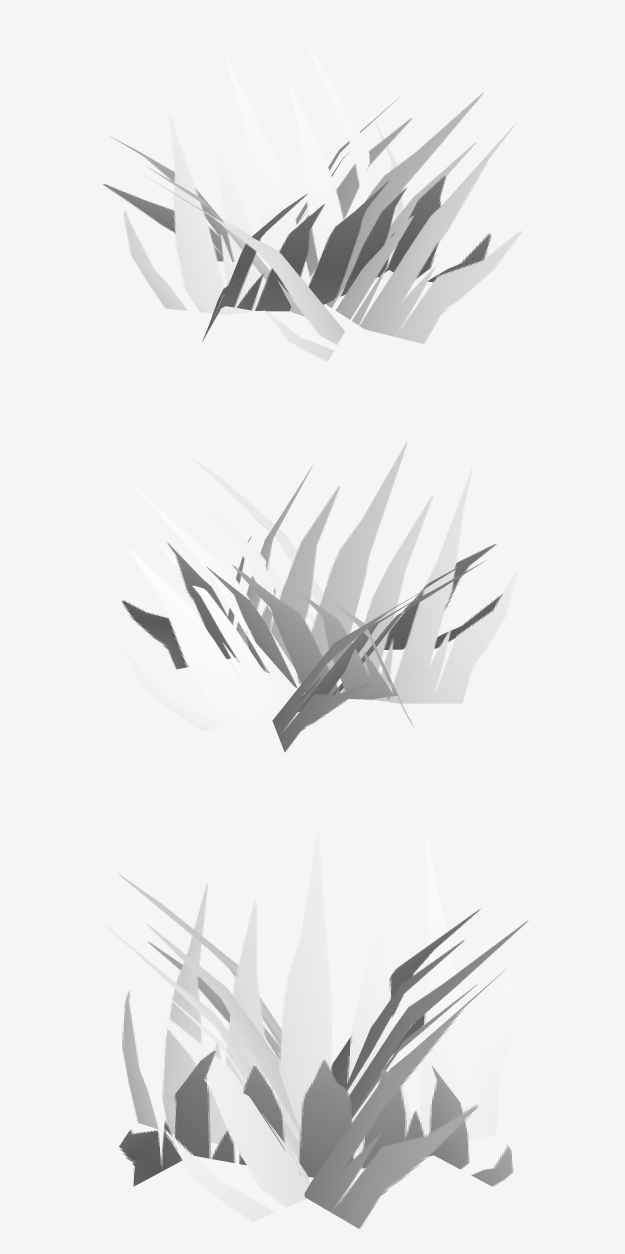
File: grass_model.glb
The picture shows the model from 3 angles, top to bottom: view 1: azimuth 30°, elevation 25°; view 2: azimuth 150°, elevation 25°; view 3: azimuth 270°, elevation 25°; orthographic projection. The views are drawn at different scales.
Parts seen in each view (by area): view 1: grass_pixelated.008; view 2: grass_pixelated.008; view 3: grass_pixelated.008.
Boxes of the visible parts, left/top/right/bottom form: grass_pixelated.008: left=103, top=45, right=522, bottom=361; grass_pixelated.008: left=121, top=442, right=517, bottom=752; grass_pixelated.008: left=97, top=831, right=528, bottom=1228.
Bounding box in the file's own units: 1.47 × 0.664 × 1.31.
1 material, 1 textured.
